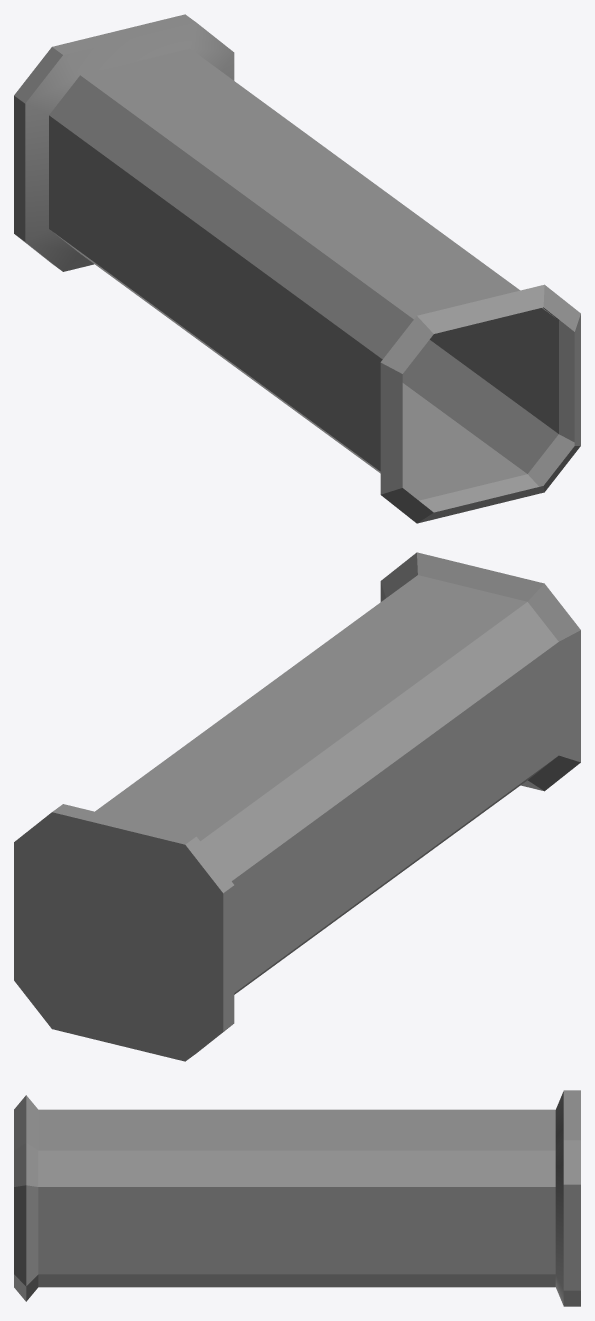
Rendered from Corner Pillar 01.FBX.
3 views of the same model, one above another, from view 1: azimuth 30°, elevation 25°; view 2: azimuth 150°, elevation 25°; view 3: azimuth 270°, elevation 25° (orthographic). The views are drawn at different scales.
Visible parts, largest first — view 1: Corner Pillar 01; view 2: Corner Pillar 01; view 3: Corner Pillar 01.
Boxes of the visible parts, box(x1,y1,x2,y2) form: Corner Pillar 01: box(14, 14, 580, 523); Corner Pillar 01: box(14, 552, 580, 1061); Corner Pillar 01: box(14, 1090, 580, 1306).
Size of the model in its own units: 102 by 102 by 314.
1 material, 1 textured.
